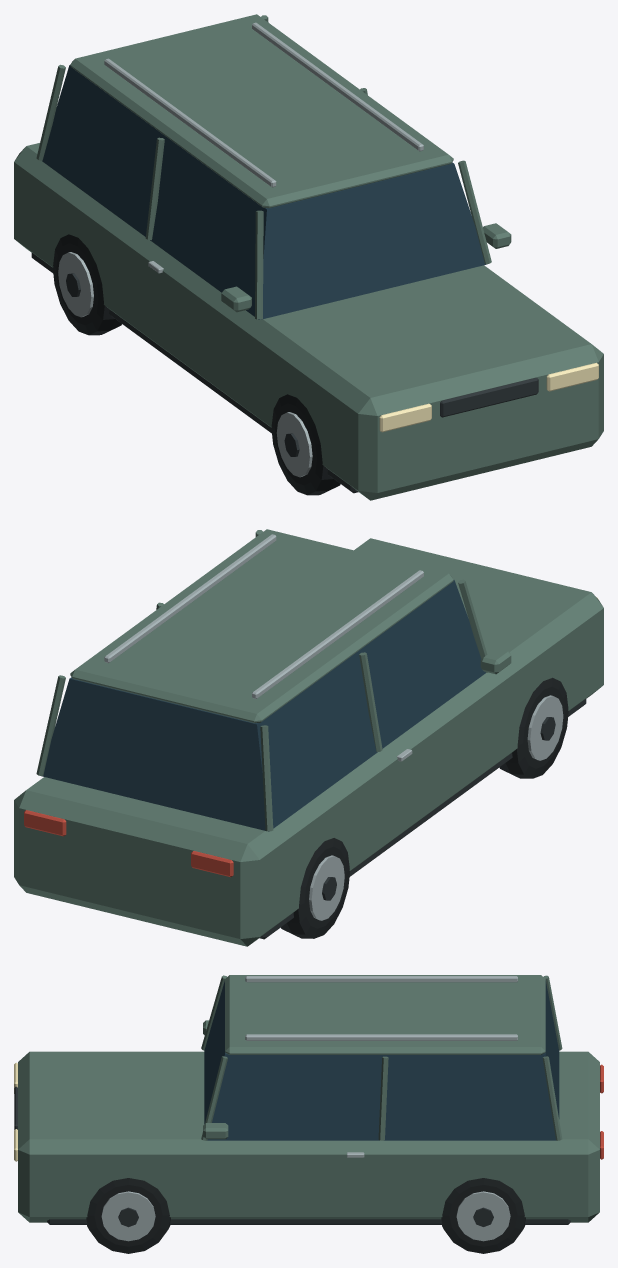
The model's file is car-suv-06.glb.
3 views of the same model, one above another, from view 1: azimuth 30°, elevation 25°; view 2: azimuth 150°, elevation 25°; view 3: azimuth 270°, elevation 25° (orthographic). The views are drawn at different scales.
Parts seen in each view (by area): view 1: Body, Glass, Roof, Tyre_RR, Tyre_FR, FrontGrille, RoofRail, RoofRail.001, Rim_FR, Rim_RR, Sill, WindowPillar (+5 smaller); view 2: Body, Glass, Roof, Tyre_FR, Tyre_RR, RoofRail.001, RoofRail, Rim_FR, Rim_RR, Sill, WindowPillar.002, WindowPillar.005 (+5 smaller); view 3: Body, Glass, Roof, Tyre_RL, Tyre_FL, Sill, RoofRail, RoofRail.001, Rim_FL, Rim_RL, WindowPillar.005, WindowPillar.004 (+2 smaller).
Part boxes in pixels (bbox=[...]): Body: bbox=[14, 143, 603, 500]; Glass: bbox=[42, 65, 486, 319]; Roof: bbox=[70, 14, 453, 208]; Tyre_RR: bbox=[52, 234, 121, 335]; Tyre_FR: bbox=[271, 394, 340, 495]; FrontGrille: bbox=[440, 377, 538, 417]; RoofRail: bbox=[104, 58, 276, 187]; RoofRail.001: bbox=[252, 22, 423, 151]; Rim_FR: bbox=[276, 412, 312, 477]; Rim_RR: bbox=[58, 252, 93, 317]; Sill: bbox=[31, 252, 358, 493]; WindowPillar: bbox=[255, 210, 263, 319]; Body: bbox=[14, 538, 603, 946]; Glass: bbox=[42, 580, 485, 831]; Roof: bbox=[70, 529, 453, 723]; Tyre_FR: bbox=[499, 677, 568, 778]; Tyre_RR: bbox=[281, 838, 349, 938]; RoofRail.001: bbox=[104, 534, 276, 663]; RoofRail: bbox=[252, 570, 423, 698]; Rim_FR: bbox=[527, 695, 563, 760]; Rim_RR: bbox=[309, 855, 344, 920]; Sill: bbox=[259, 698, 586, 939]; WindowPillar.002: bbox=[260, 725, 273, 831]; WindowPillar.005: bbox=[36, 675, 65, 776]; Body: bbox=[18, 1051, 599, 1222]; Glass: bbox=[204, 981, 559, 1140]; Roof: bbox=[225, 975, 545, 1054]; Tyre_RL: bbox=[441, 1178, 525, 1253]; Tyre_FL: bbox=[86, 1178, 170, 1253]; Sill: bbox=[47, 1219, 570, 1224]; RoofRail: bbox=[245, 976, 517, 982]; RoofRail.001: bbox=[245, 1034, 517, 1040]; Rim_FL: bbox=[101, 1191, 155, 1241]; Rim_RL: bbox=[456, 1191, 510, 1241]; WindowPillar.005: bbox=[542, 1056, 562, 1140]; WindowPillar.004: bbox=[378, 1056, 388, 1140].
Bounding box in the file's own units: 2.26 × 1.93 × 5.12.
